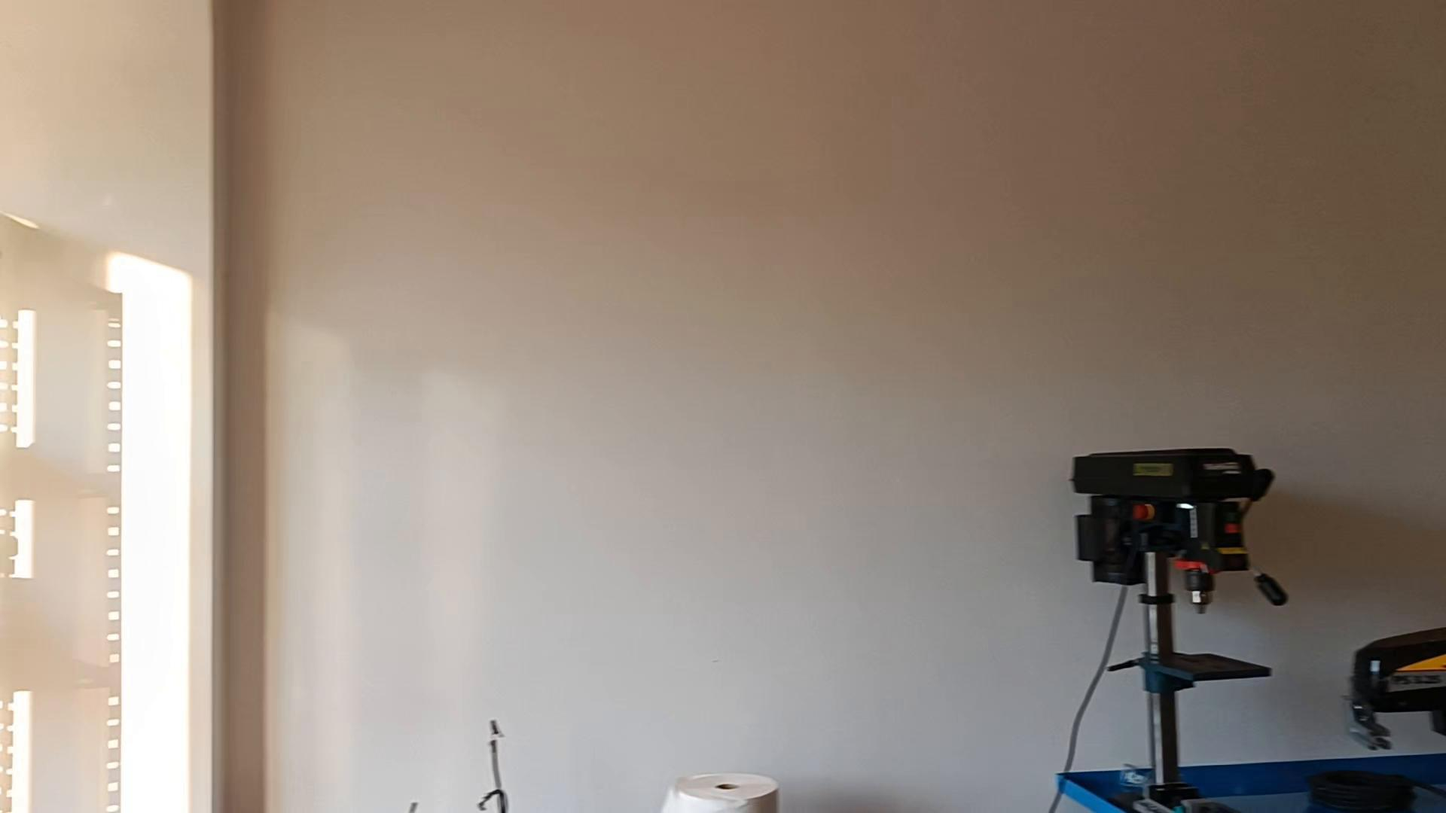wall: (243, 0, 1445, 812), (4, 0, 265, 304)
